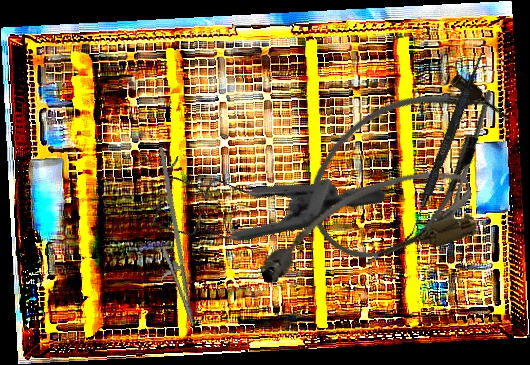Cannula: (280, 43, 530, 288), (246, 157, 484, 299)
Needle Holder: (124, 145, 217, 332)
Pusher: (439, 88, 493, 248)
Spatula Surgical: (404, 47, 487, 245)
Speculum: (129, 72, 389, 315)
